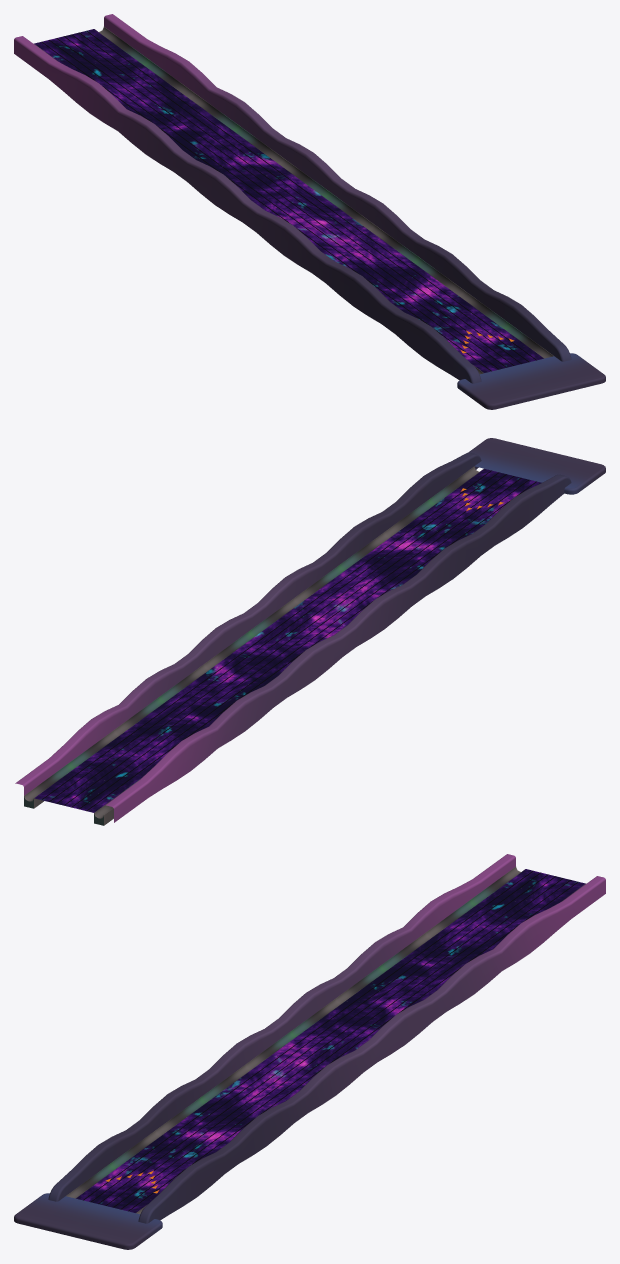
Rendered from lane_nebula.gltf.
The picture shows the model from 3 angles, top to bottom: view 1: azimuth 30°, elevation 25°; view 2: azimuth 150°, elevation 25°; view 3: azimuth 330°, elevation 25°; orthographic projection.
Visible parts, largest first — view 1: lane_default.walls.003, lane_default.floor.003, lane_default.gutter.003, lane_default.playerArea.002; view 2: lane_default.walls.003, lane_default.floor.003, lane_default.gutter.003, lane_default.playerArea.002; view 3: lane_default.walls.003, lane_default.floor.003, lane_default.gutter.003, lane_default.playerArea.002.
Part boxes in pixels (x1,y1,x2,y2): lane_default.walls.003: [14, 14, 571, 383]; lane_default.floor.003: [34, 29, 543, 372]; lane_default.gutter.003: [34, 27, 553, 374]; lane_default.playerArea.002: [457, 353, 605, 409]; lane_default.walls.003: [15, 452, 571, 822]; lane_default.floor.003: [34, 469, 541, 812]; lane_default.gutter.003: [24, 466, 483, 825]; lane_default.playerArea.002: [468, 438, 605, 494]; lane_default.walls.003: [48, 854, 605, 1223]; lane_default.floor.003: [76, 869, 585, 1212]; lane_default.gutter.003: [66, 867, 585, 1214]; lane_default.playerArea.002: [14, 1193, 162, 1249].
Size of the model in its own units: 3 by 0.7076 by 21.
Materials: 4 (4 with a texture image).
